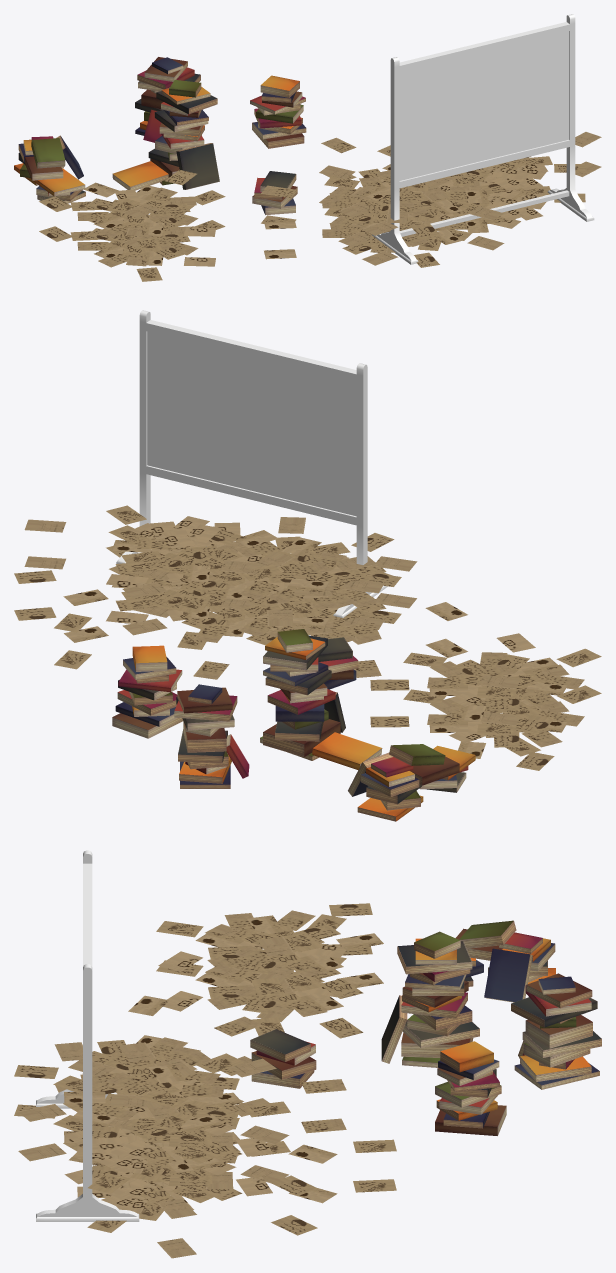
File: Room01_Bookpiles+ScatteredPapers.fbx
The picture shows the model from 3 angles, top to bottom: view 1: azimuth 30°, elevation 25°; view 2: azimuth 150°, elevation 25°; view 3: azimuth 270°, elevation 25°; orthographic projection. The views are drawn at different scales.
Parts seen in each view (by area): view 1: Chalkboard, Paper.014, Paper.015, Book_Low.312, Book_Low.297, Book_Low.324, Book_Low.328, Book_Low.339, Book_Low.308, Book_Low.323, Book_Low.316, Book_Low.330 (+9 smaller); view 2: Chalkboard, Paper.014, Paper.015, Book_Low.297, Book_Low.296, Book_Low.324, Book_Low.339, Book_Low.283, Book_Low.330, Book_Low.294, Book_Low.323, Book_Low.299 (+7 smaller); view 3: Paper.014, Paper.015, Chalkboard, Book_Low.329, Book_Low.316, Book_Low.283, Book_Low.324, Book_Low.308, Book_Low.339, Book_Low.284, Book_Low.299, Book_Low.292 (+17 smaller).
Part boxes in pixels (x1=…): Chalkboard: x1=372, y1=14, x2=594, y2=264; Paper.014: x1=261, y1=161, x2=601, y2=267; Paper.015: x1=39, y1=203, x2=225, y2=281; Book_Low.312: x1=176, y1=143, x2=219, y2=189; Book_Low.297: x1=112, y1=161, x2=168, y2=190; Book_Low.324: x1=31, y1=138, x2=65, y2=168; Book_Low.328: x1=33, y1=168, x2=85, y2=196; Book_Low.339: x1=260, y1=75, x2=299, y2=97; Book_Low.308: x1=156, y1=87, x2=217, y2=114; Book_Low.323: x1=25, y1=156, x2=63, y2=180; Book_Low.316: x1=260, y1=171, x2=296, y2=191; Book_Low.330: x1=252, y1=122, x2=304, y2=148; Chalkboard: x1=116, y1=310, x2=387, y2=617; Paper.014: x1=14, y1=546, x2=467, y2=679; Paper.015: x1=370, y1=676, x2=601, y2=770; Book_Low.297: x1=312, y1=732, x2=382, y2=769; Book_Low.296: x1=263, y1=719, x2=340, y2=756; Book_Low.324: x1=389, y1=744, x2=445, y2=765; Book_Low.339: x1=132, y1=645, x2=167, y2=671; Book_Low.283: x1=183, y1=721, x2=226, y2=752; Book_Low.330: x1=112, y1=713, x2=183, y2=738; Book_Low.294: x1=177, y1=687, x2=232, y2=713; Book_Low.323: x1=410, y1=756, x2=459, y2=785; Book_Low.299: x1=275, y1=709, x2=324, y2=741; Paper.014: x1=14, y1=1035, x2=396, y2=1258; Paper.015: x1=156, y1=944, x2=383, y2=1038; Chalkboard: x1=36, y1=850, x2=139, y2=1221; Book_Low.329: x1=484, y1=948, x2=532, y2=1002; Book_Low.316: x1=250, y1=1029, x2=310, y2=1061; Book_Low.283: x1=525, y1=1015, x2=592, y2=1048; Book_Low.324: x1=459, y1=920, x2=516, y2=948; Book_Low.308: x1=397, y1=941, x2=472, y2=974; Book_Low.339: x1=440, y1=1041, x2=493, y2=1072; Book_Low.284: x1=520, y1=1055, x2=591, y2=1081; Book_Low.299: x1=402, y1=1021, x2=479, y2=1047; Book_Low.292: x1=511, y1=997, x2=597, y2=1027.
Bounding box in the file's own units: 2071 × 777 × 1630.
